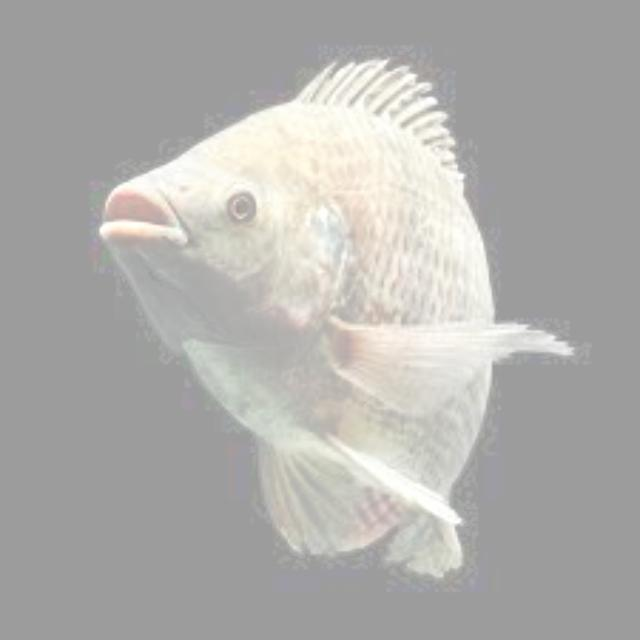Healthy Fish: (97, 57, 577, 583)
